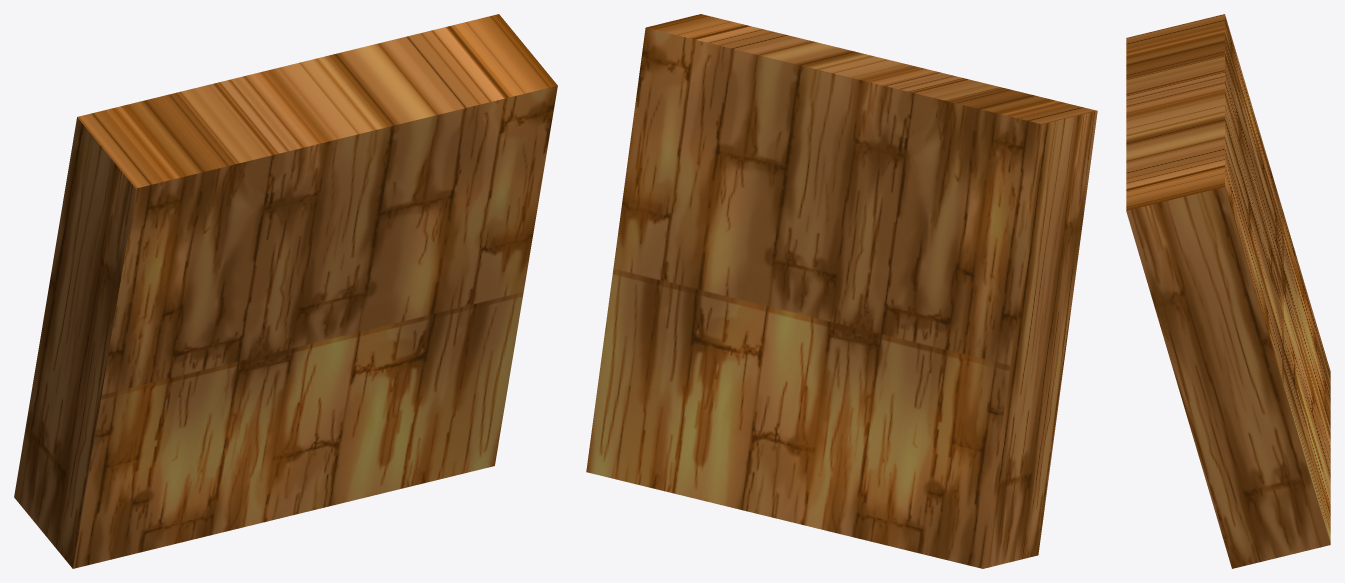
The model's file is DrawBridge2x2.FBX.
3 views of the same model, side by side, from view 1: azimuth 30°, elevation 25°; view 2: azimuth 150°, elevation 25°; view 3: azimuth 270°, elevation 25° (orthographic). The views are drawn at different scales.
Visible parts, largest first — view 1: Drawbrdge_SM; view 2: Drawbrdge_SM; view 3: Drawbrdge_SM.
Part boxes in pixels (box(x1,y1,x2,y2)): Drawbrdge_SM: box(14, 14, 557, 568); Drawbrdge_SM: box(586, 14, 1097, 568); Drawbrdge_SM: box(1126, 14, 1330, 568).
Bounding box in the file's own units: 200 × 206 × 100.
1 material, 1 textured.
